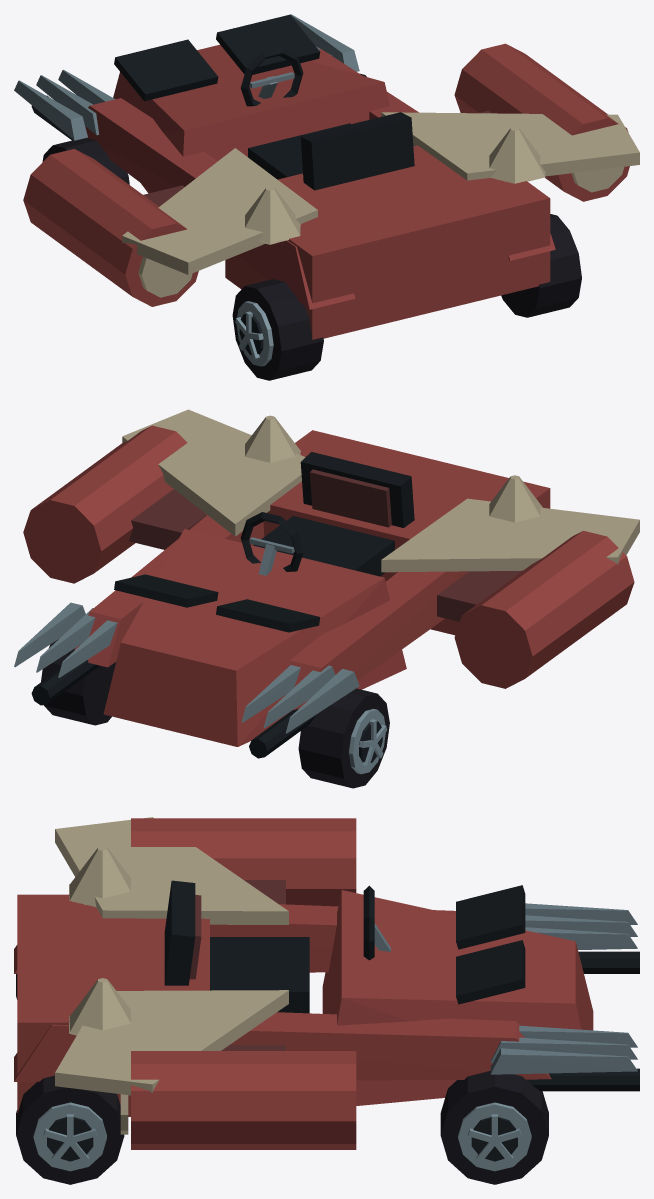
The model's file is kart.glb.
The picture shows the model from 3 angles, top to bottom: view 1: azimuth 30°, elevation 25°; view 2: azimuth 150°, elevation 25°; view 3: azimuth 270°, elevation 25°; orthographic projection. The views are drawn at different scales.
Visible parts, largest first — view 1: identity-gunship-gunship-armored-cargo-fuselage, identity-gunship-motif-wings, identity-gunship-driver-cockpit, wheel-rear-left, identity-gunship-motif-claws, identity-gunship-motif-gems, wheel-rear-right, wheel-front-left; view 2: identity-gunship-gunship-armored-cargo-fuselage, identity-gunship-motif-wings, identity-gunship-driver-cockpit, identity-gunship-motif-claws, wheel-front-left, identity-gunship-motif-gems, wheel-front-right; view 3: identity-gunship-gunship-armored-cargo-fuselage, identity-gunship-motif-wings, identity-gunship-driver-cockpit, wheel-front-right, identity-gunship-motif-claws, wheel-rear-right, identity-gunship-motif-gems.
Part boxes in pixels (left/top/right/bottom): identity-gunship-gunship-armored-cargo-fuselage: left=23, top=14, right=629, bottom=339; identity-gunship-motif-wings: left=122, top=112, right=639, bottom=274; identity-gunship-driver-cockpit: left=240, top=47, right=414, bottom=190; wheel-rear-left: left=232, top=279, right=323, bottom=380; identity-gunship-motif-claws: left=14, top=14, right=359, bottom=140; identity-gunship-motif-gems: left=245, top=127, right=545, bottom=244; wheel-rear-right: left=501, top=214, right=581, bottom=317; wheel-front-left: left=42, top=138, right=129, bottom=184; identity-gunship-gunship-armored-cargo-fuselage: left=23, top=425, right=634, bottom=758; identity-gunship-motif-wings: left=122, top=409, right=639, bottom=572; identity-gunship-driver-cockpit: left=240, top=452, right=414, bottom=576; identity-gunship-motif-claws: left=14, top=602, right=359, bottom=733; wheel-front-left: left=298, top=688, right=389, bottom=788; identity-gunship-motif-gems: left=245, top=415, right=542, bottom=522; wheel-front-right: left=41, top=639, right=115, bottom=725; identity-gunship-gunship-armored-cargo-fuselage: left=14, top=818, right=639, bottom=1149; identity-gunship-motif-wings: left=55, top=817, right=288, bottom=1095; identity-gunship-driver-cockpit: left=164, top=880, right=390, bottom=1013; wheel-front-right: left=440, top=1070, right=548, bottom=1184; identity-gunship-motif-claws: left=490, top=903, right=637, bottom=1074; wheel-rear-right: left=16, top=1075, right=124, bottom=1184; identity-gunship-motif-gems: left=69, top=846, right=130, bottom=1035.
Size of the model in its own units: 3 by 1.09 by 2.89.
